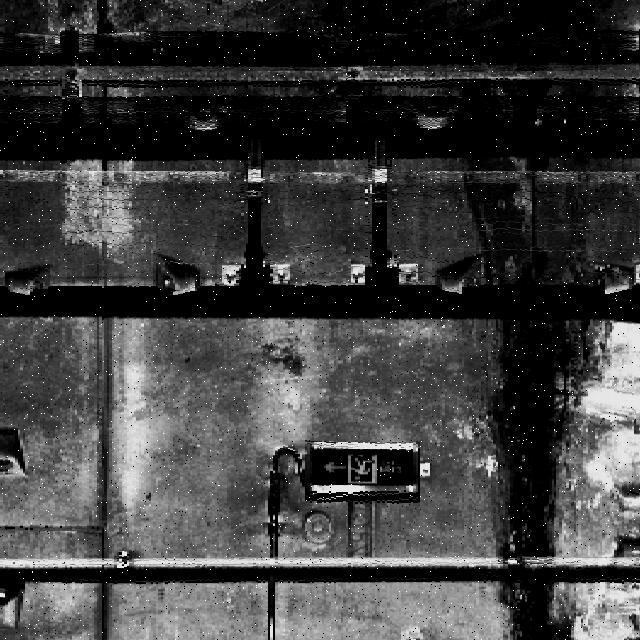leakage: (475, 317, 618, 640), (459, 157, 551, 290)
